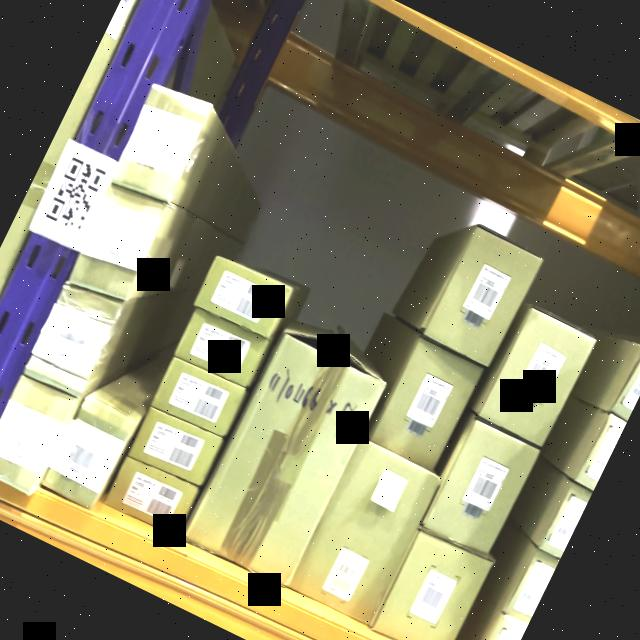box: (181, 334, 385, 588), (290, 442, 438, 625), (478, 308, 594, 447), (424, 228, 540, 366), (424, 420, 538, 556), (370, 340, 482, 471), (373, 532, 489, 640), (109, 85, 212, 202), (66, 186, 167, 300), (24, 284, 119, 396), (40, 398, 134, 510), (0, 376, 74, 494), (128, 408, 220, 487), (195, 258, 288, 336), (105, 456, 196, 535), (176, 309, 266, 386), (152, 360, 243, 435)
